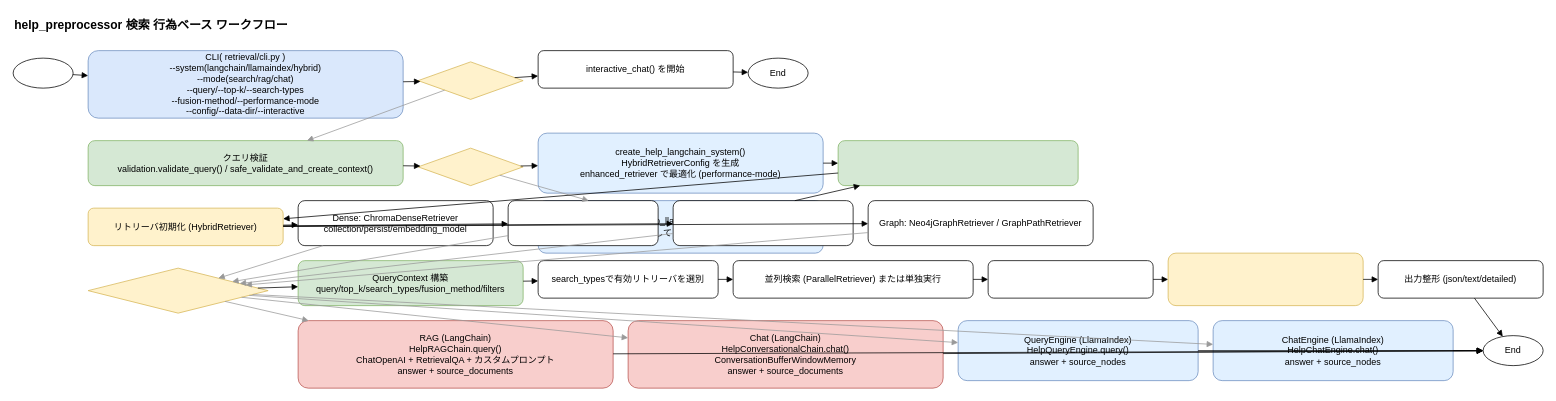
The diagram is 1556 pixels wide and 401 high, and some of its shapes have lost their labels. Each missing label, with the centre of its shape:
Full-text: Whoosh / Elasticsearch: the point at 762,223
mode選択 (search / rag / chat): the point at 177,290
Sparse: TF-IDF / BM25: the point at 582,223
Start: the point at 42,72
system 選択: the point at 470,166
ソース別に結果をグルーピング: the point at 1070,279
対話モード？: the point at 470,80
結果統合(Fusion) RRF / Weighted / Borda / Adaptive: the point at 1265,279
設定・データ検証 validate_hybrid_config() / validate_data_files(): the point at 957,163
